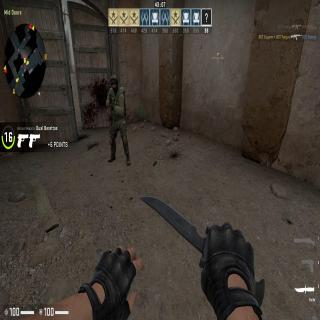CT-Body: (107, 73, 132, 166)
CT-Head: (110, 75, 119, 91)
